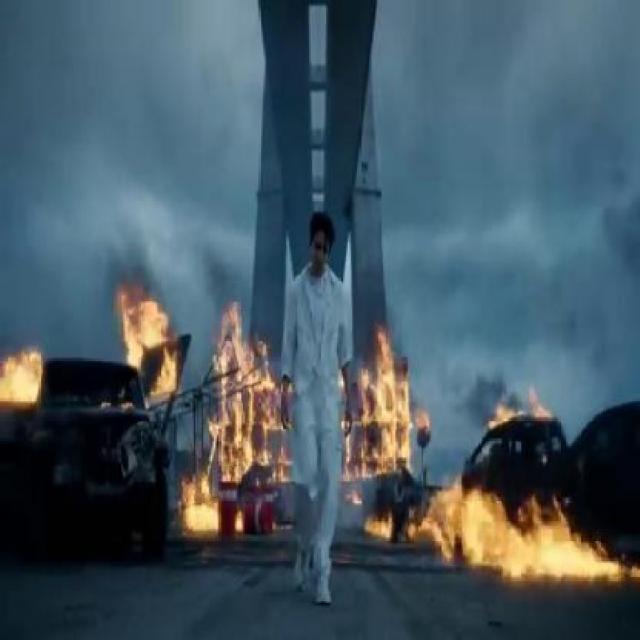fire: (416, 468, 630, 594), (210, 310, 276, 476), (113, 290, 178, 388), (354, 356, 412, 464)
smoke: (523, 86, 640, 342), (412, 290, 520, 413), (77, 193, 165, 284), (190, 216, 255, 304), (341, 240, 412, 320), (336, 434, 373, 532)
